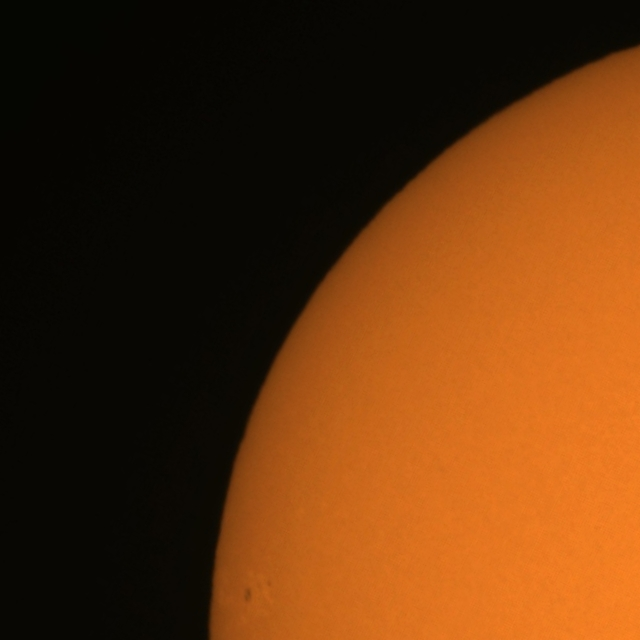sunspot: (242, 577, 272, 604), (242, 586, 254, 604), (264, 578, 273, 588)
